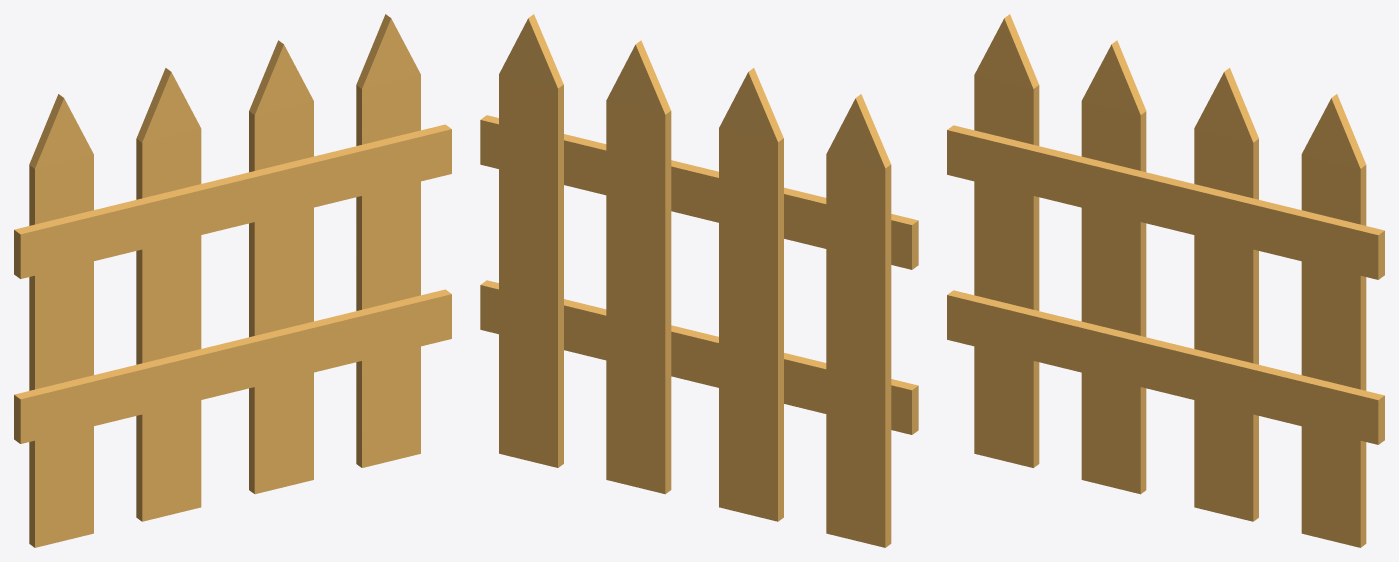
Rendered from fence.fbx.
3 renders of one model, left to right at view 1: azimuth 30°, elevation 25°; view 2: azimuth 150°, elevation 25°; view 3: azimuth 330°, elevation 25°, orthographic.
Parts seen in each view (by area): view 1: Cube.005, Cube.004, Cube.003, Cube.002, Cube.001, Cube; view 2: Cube.002, Cube, Cube.003, Cube.001, Cube.004, Cube.005; view 3: Cube.005, Cube.004, Cube.001, Cube.002, Cube.003, Cube.
Part boxes in pixels (x1,y1,x2,y2): Cube.005: (14, 289, 451, 443); Cube.004: (14, 124, 451, 278); Cube.003: (136, 68, 201, 521); Cube.002: (29, 94, 93, 547); Cube.001: (356, 14, 420, 467); Cube: (249, 40, 313, 494); Cube.002: (826, 94, 891, 547); Cube: (606, 40, 671, 494); Cube.003: (719, 68, 783, 521); Cube.001: (499, 14, 563, 467); Cube.004: (480, 115, 918, 269); Cube.005: (480, 280, 918, 434); Cube.005: (947, 290, 1384, 444); Cube.004: (947, 125, 1384, 279); Cube.001: (1301, 94, 1366, 547); Cube.002: (974, 14, 1039, 467); Cube.003: (1081, 40, 1146, 494); Cube: (1194, 68, 1258, 521).
Size of the model in its own units: 19845 by 19453 by 1000.
